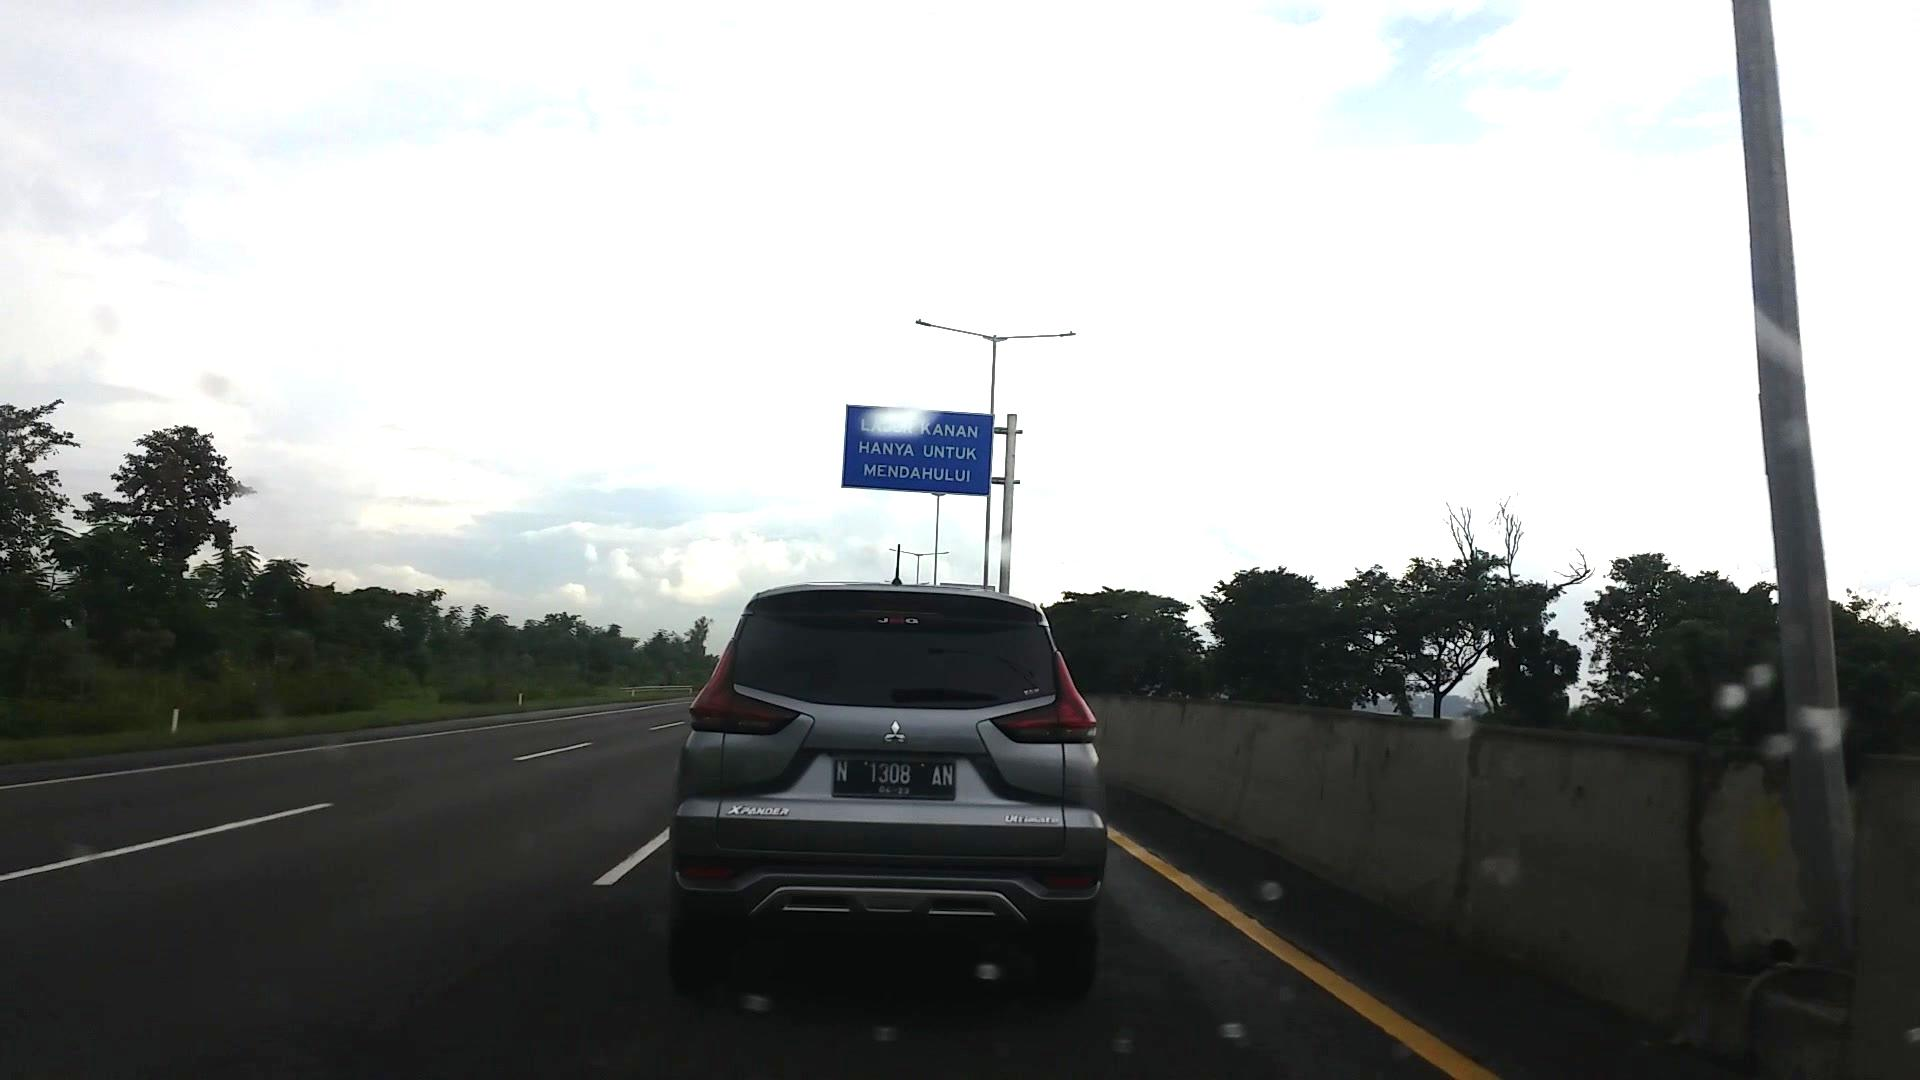plate_positive: (832, 757, 956, 799)
